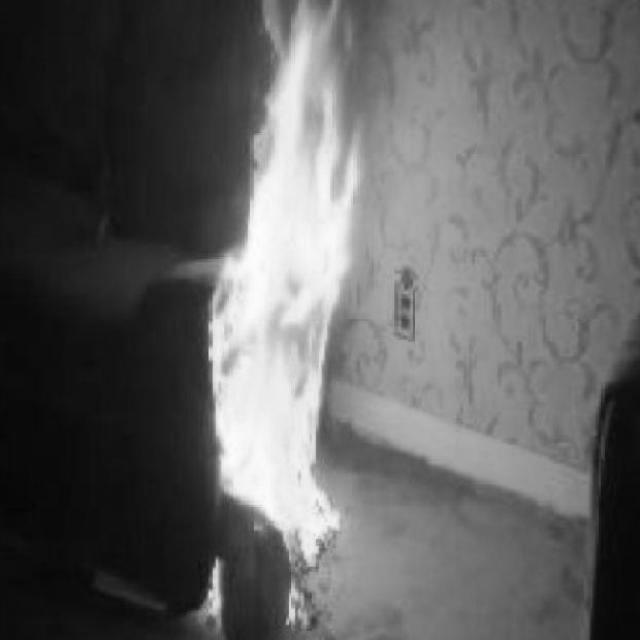smoke: (210, 0, 362, 559), (193, 556, 227, 639), (276, 578, 318, 629)
